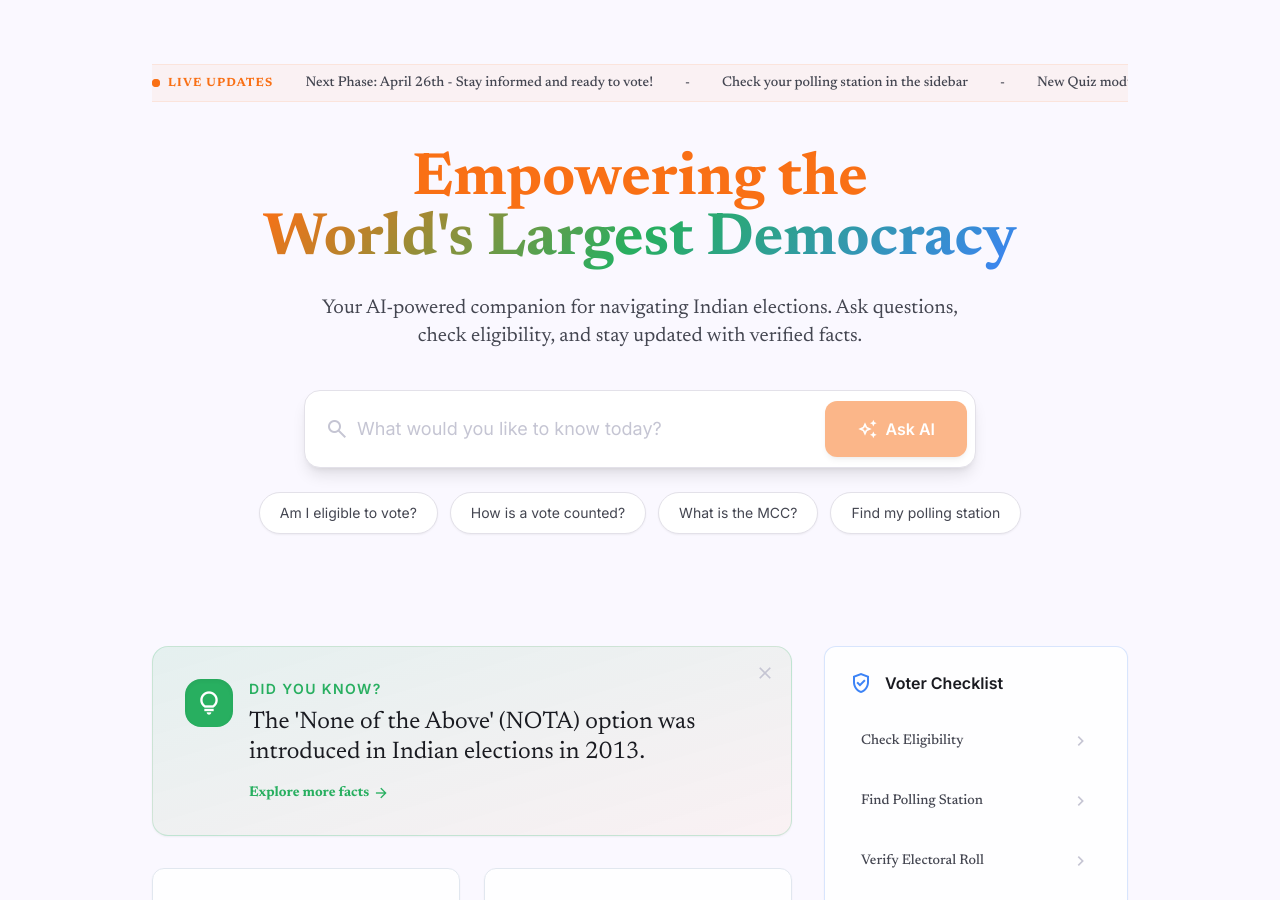
Scenario: HomePage › closes the AI response dialog with Escape
In the field named "Ask an election question": (587, 429) [357,399,818,459], type "What is MCC?"
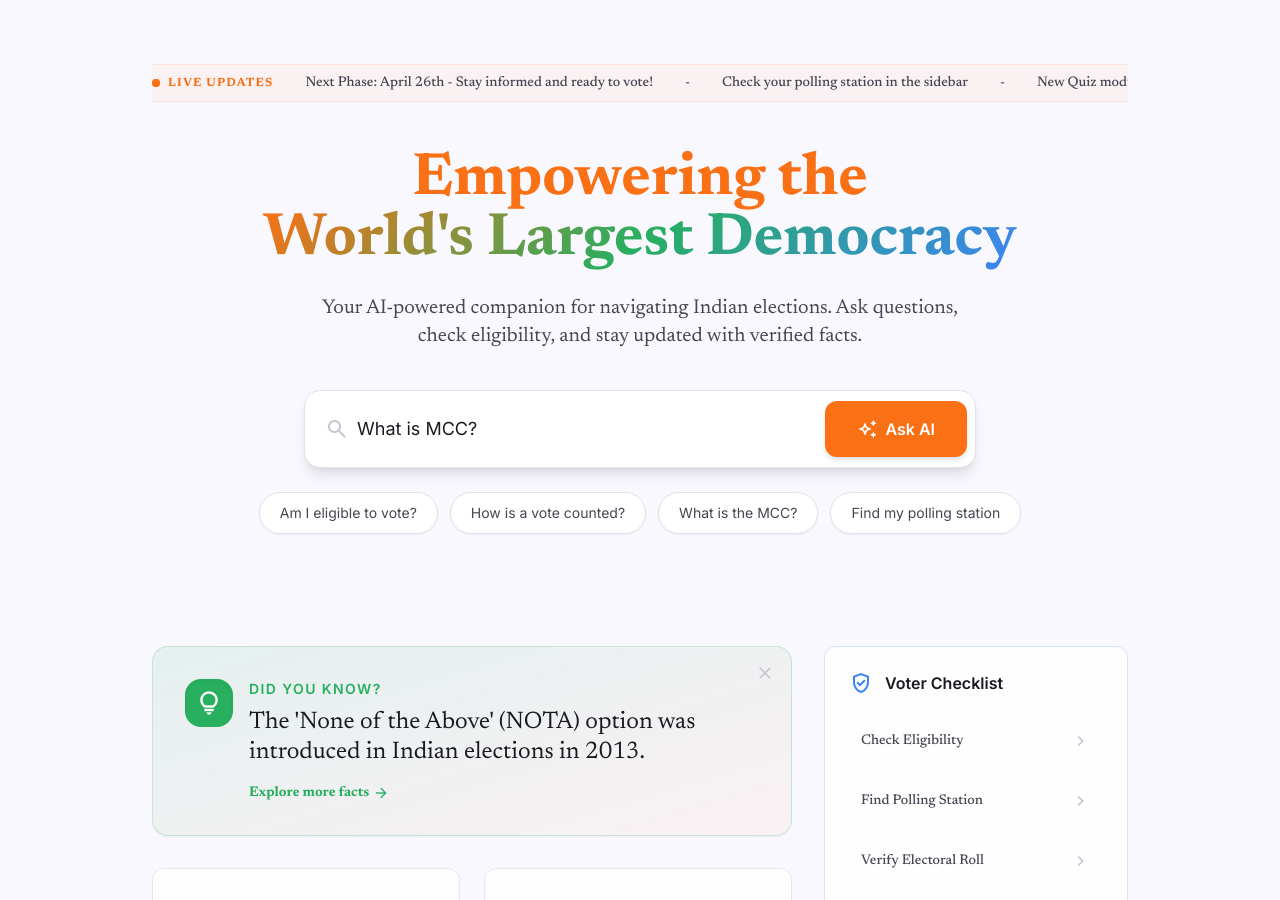
Click the button "Ask AI": click(896, 429) [826,401,967,457]
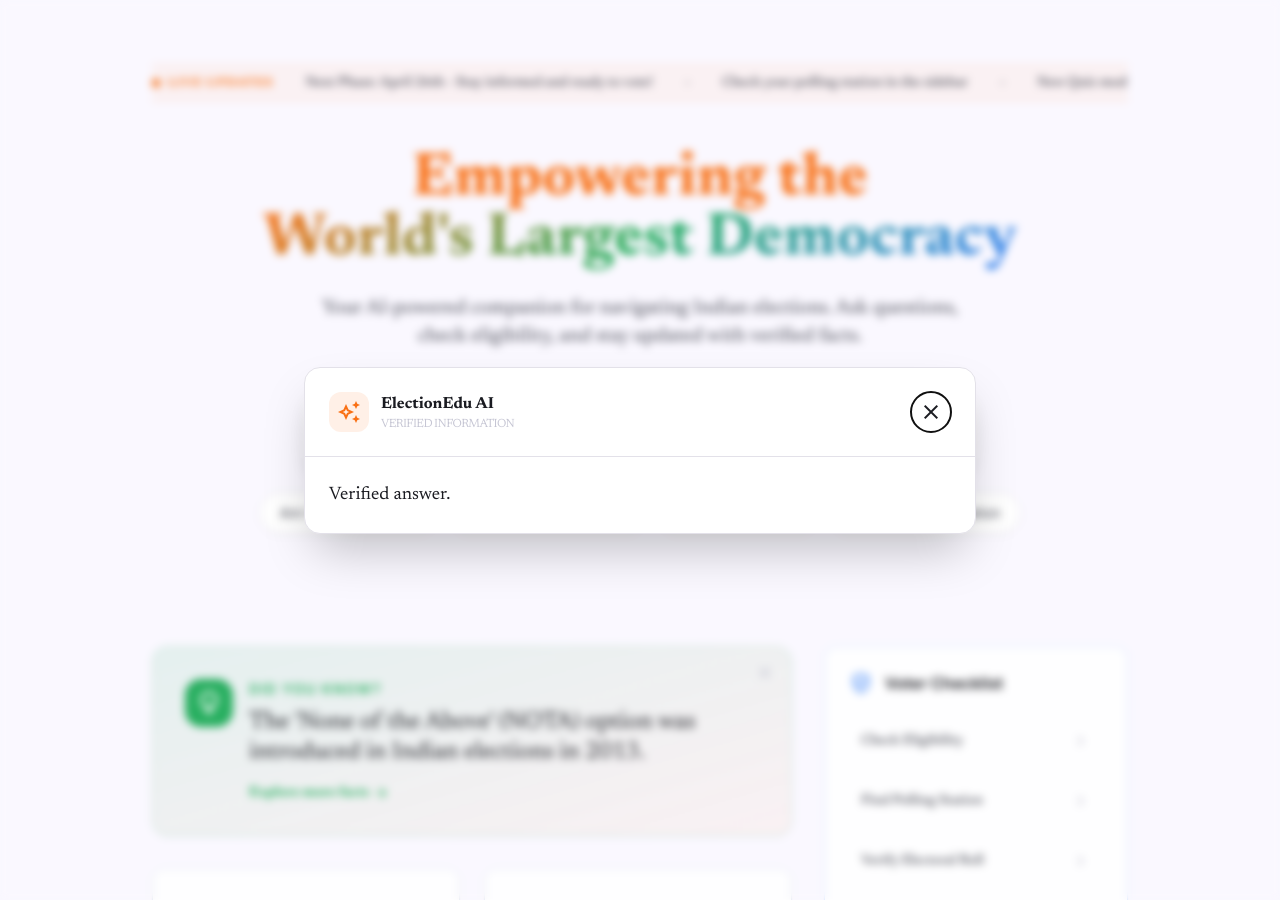
Check: the dialog "ElectionEdu AI Verified Information Verified answer." is shown, box [304,366,976,534]
Press Escape
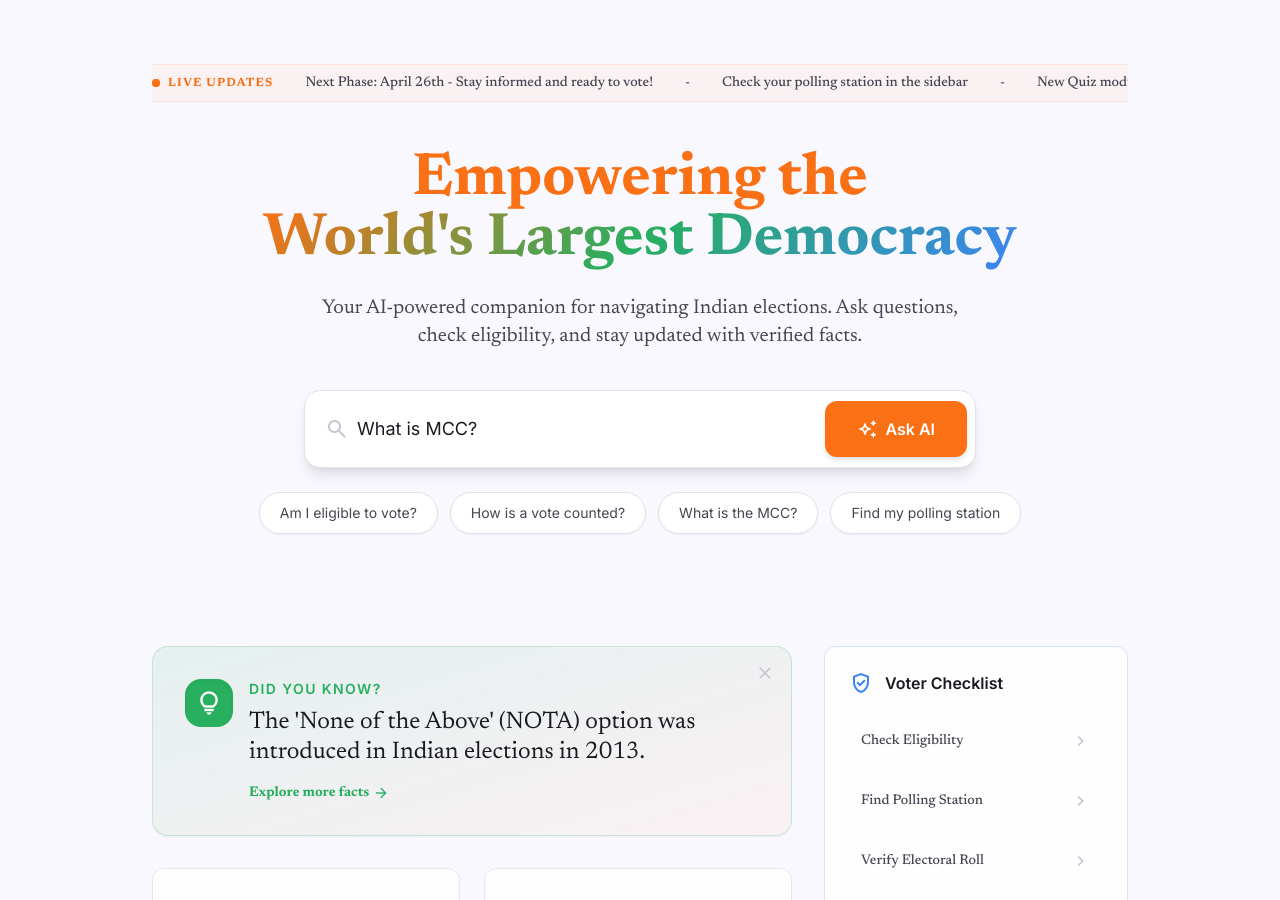
Check: the heading "ElectionEdu AI" is gone
